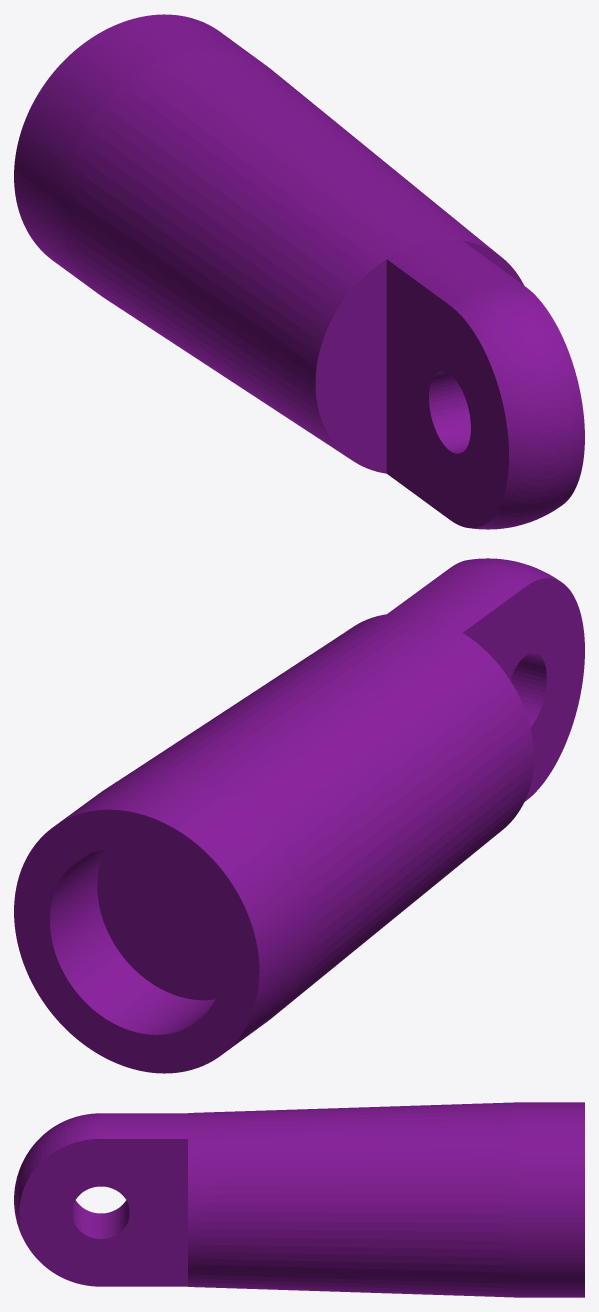
The picture shows the model from 3 angles, top to bottom: view 1: azimuth 30°, elevation 25°; view 2: azimuth 150°, elevation 25°; view 3: azimuth 270°, elevation 25°; orthographic projection. The views are drawn at different scales.
Parts seen in each view (by area): view 1: node; view 2: node; view 3: node.
Part boxes in pixels (bbox=[...]): node: bbox=[14, 14, 584, 529]; node: bbox=[14, 558, 584, 1073]; node: bbox=[14, 1102, 584, 1297].
Size of the model in its own units: 0.0589 by 0.0589 by 0.172.
